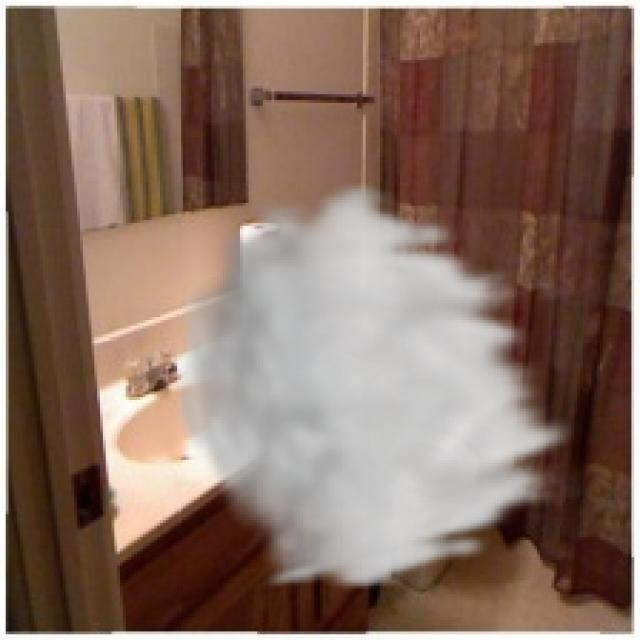Smoke: (165, 177, 586, 594)
